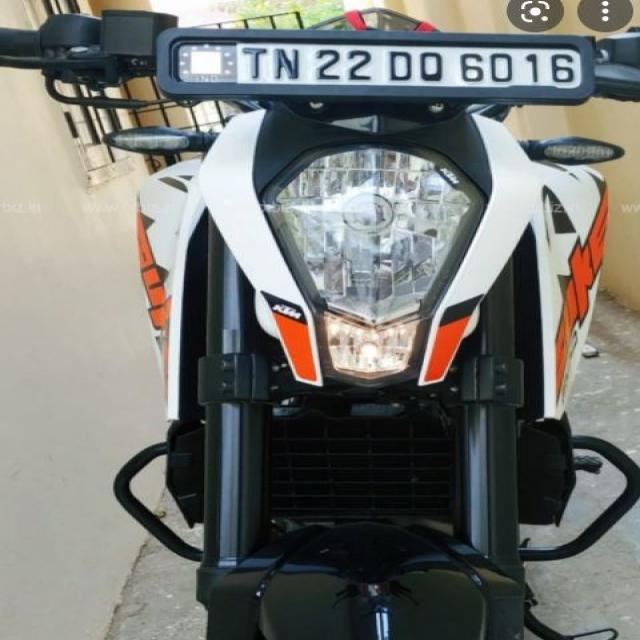number plate: (155, 28, 596, 103)
